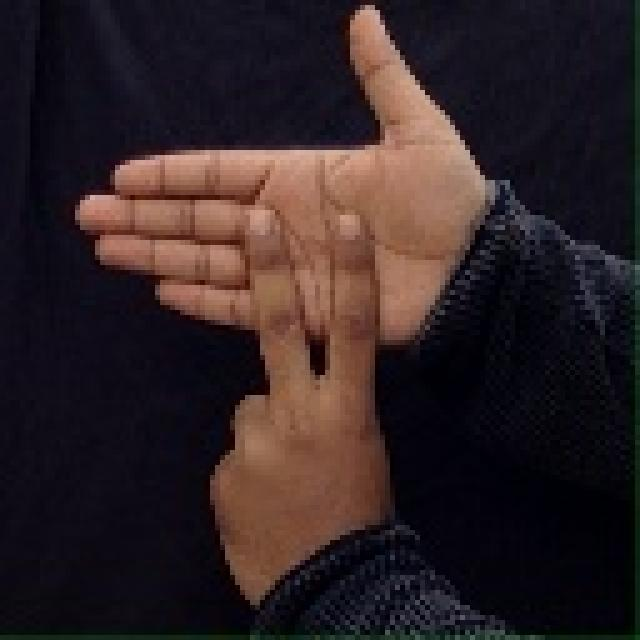N: (59, 0, 500, 636)
